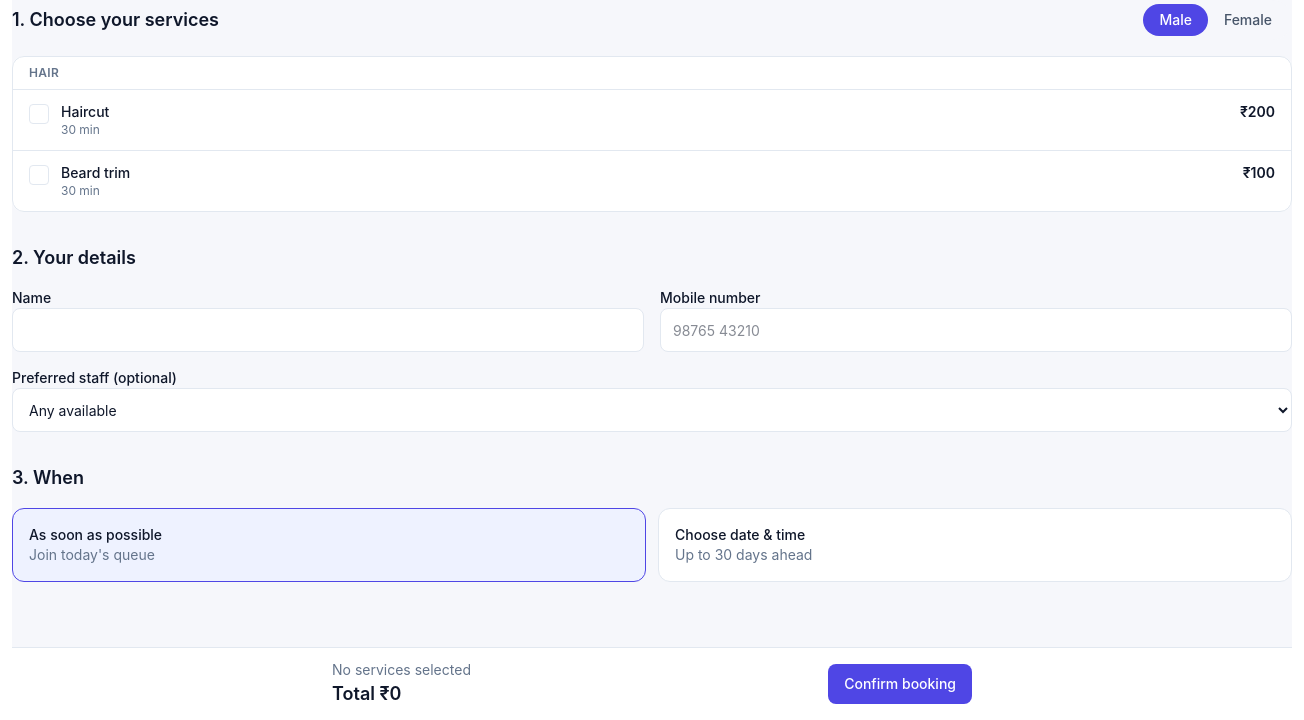
Test: BookingForm › switching to Female drops the men's services already picked
What coordinates should you click on to do the following:
click the text "Haircut"
I would click on:
 (85, 112)
Its box is top-left (61, 103), bottom-right (109, 120).
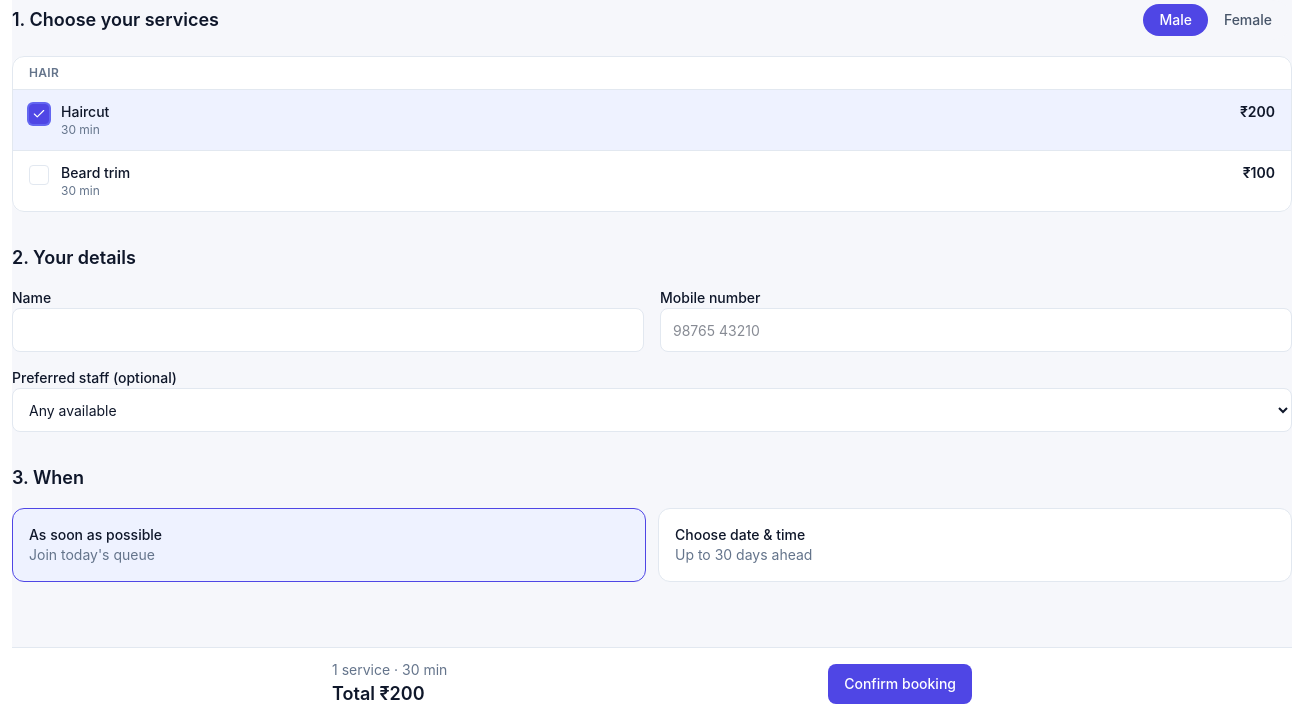
Check: the text "Total ₹200" is shown, box top-left (332, 683), bottom-right (424, 704)
What coordinates should you click on to do the following:
click the radio button labelled "Female"
I would click on:
 (1248, 20)
Its box is top-left (1208, 4), bottom-right (1288, 36).
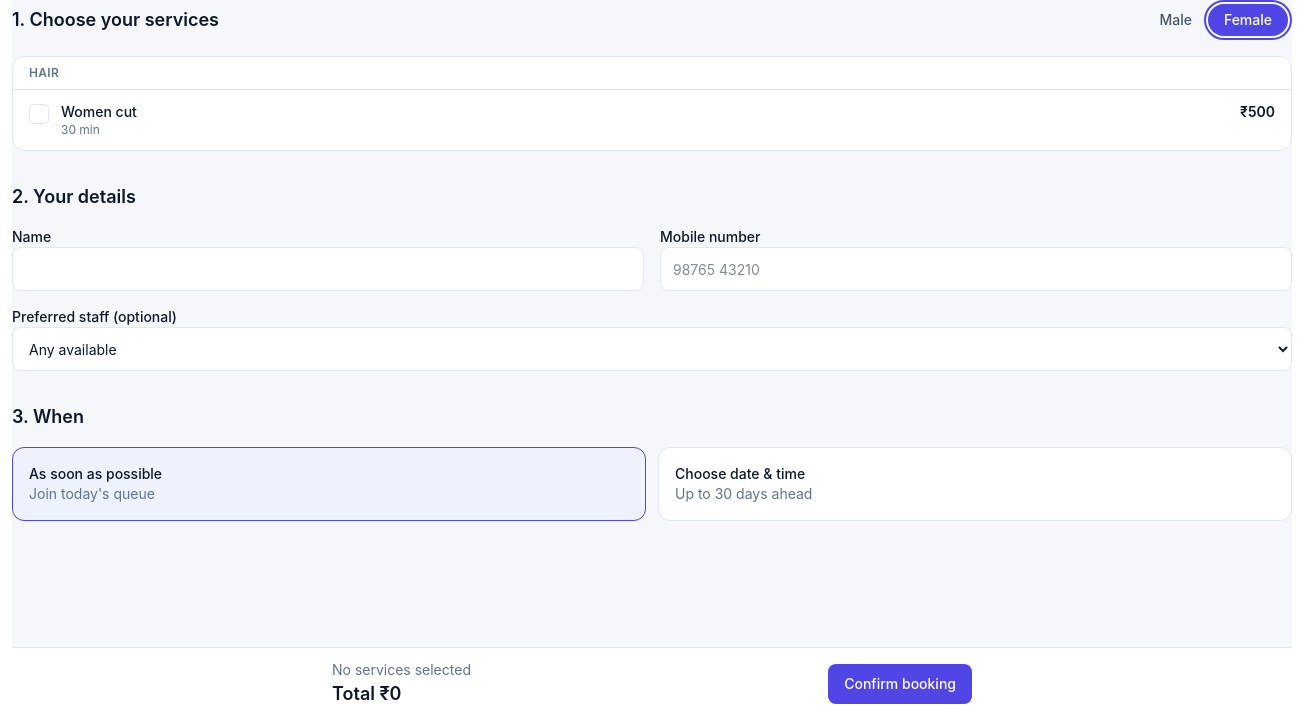
Check: the text "Total ₹0" is shown, box top-left (332, 683), bottom-right (402, 704)
Check: the text "Women cut" is shown, box top-left (61, 103), bottom-right (137, 120)
